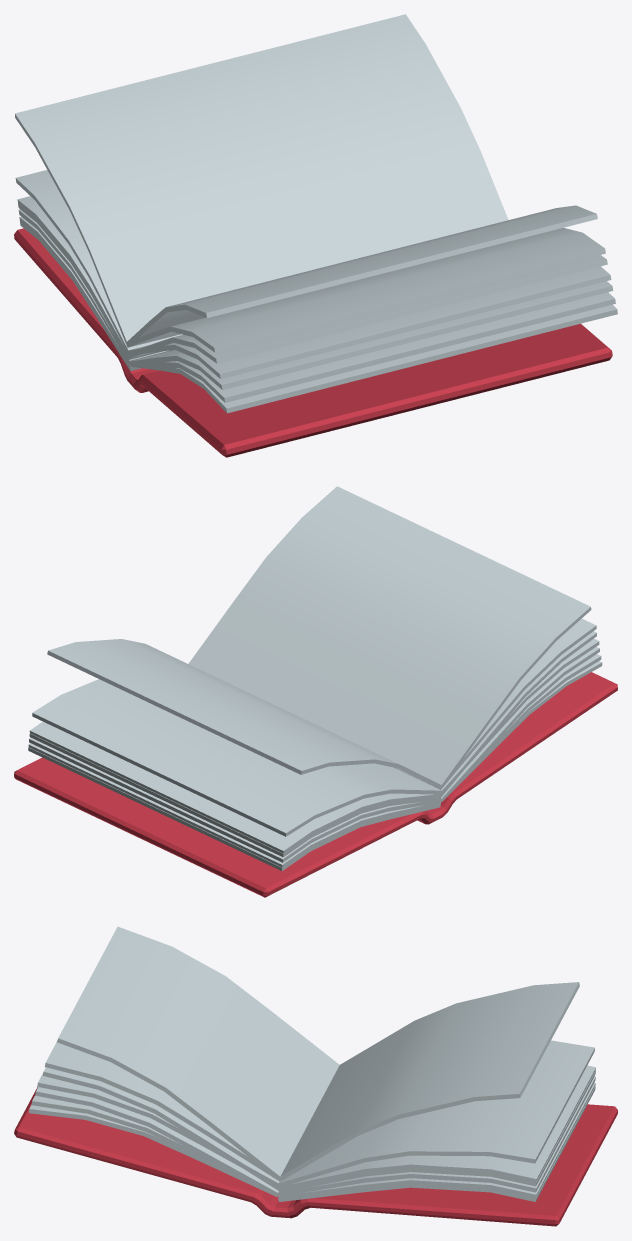
Rendered from book.glb.
The picture shows the model from 3 angles, top to bottom: view 1: azimuth 30°, elevation 25°; view 2: azimuth 150°, elevation 25°; view 3: azimuth 270°, elevation 25°; orthographic projection. The views are drawn at different scales.
Visible parts, largest first — view 1: book; view 2: book; view 3: book.
Boxes of the visible parts, x1,y1,x2,y2 form: book: (14,14,617,457); book: (14,486,617,897); book: (14,926,617,1226).
Size of the model in its own units: 1.13 by 0.5182 by 1.51.
